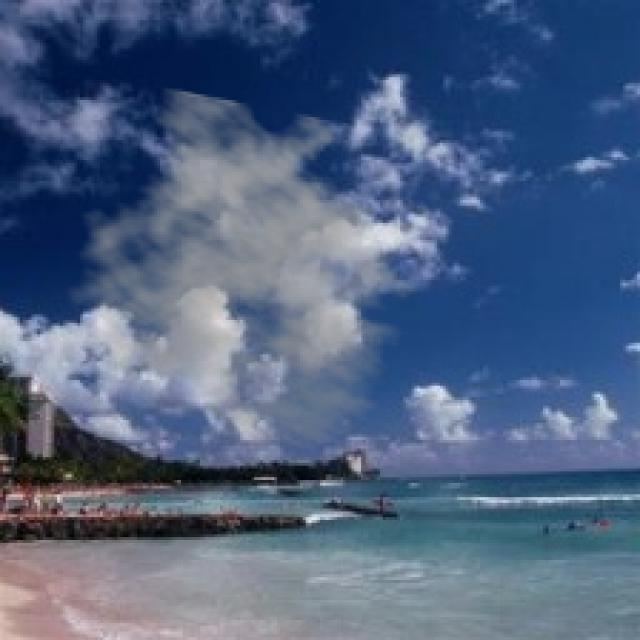smoke: (63, 86, 437, 451)
